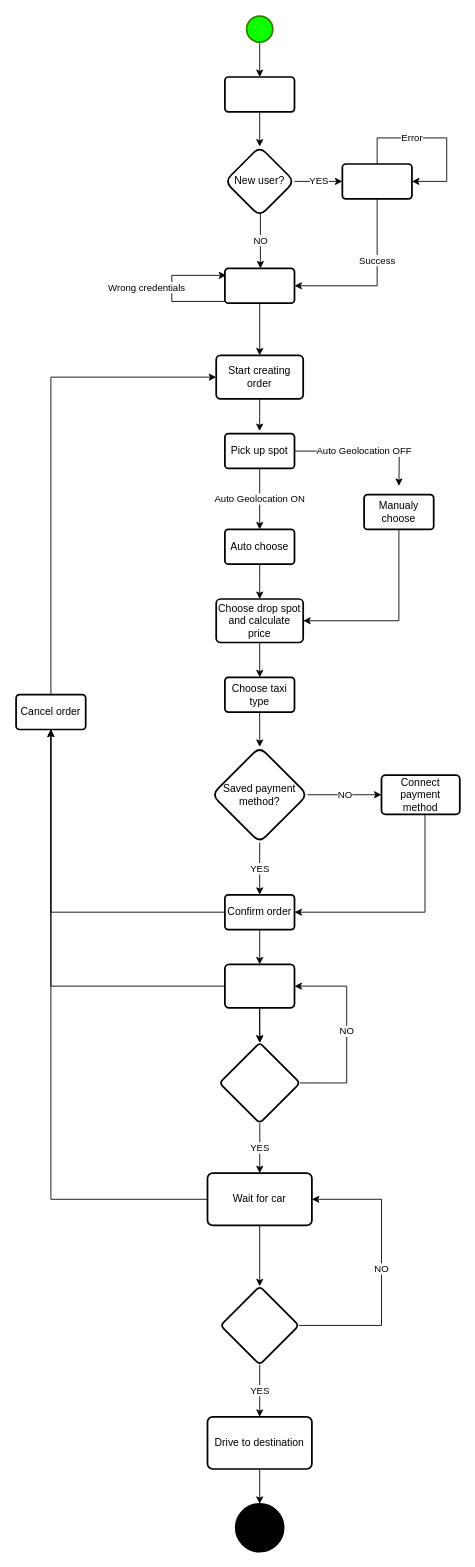
The diagram is 475 pixels wide and 1567 high, and some of its shapes have lost their labels. Here are the shapes that lost their labels. From the top down, the centre of each, then its label:
At point (259, 94): "Open Uklon app".
At point (376, 181): "Register".
At point (259, 285): "Login".
At point (259, 985): "Searching for a car".
At point (259, 1082): "Found the driver?".
At point (259, 1325): "Taxi arrived?".
